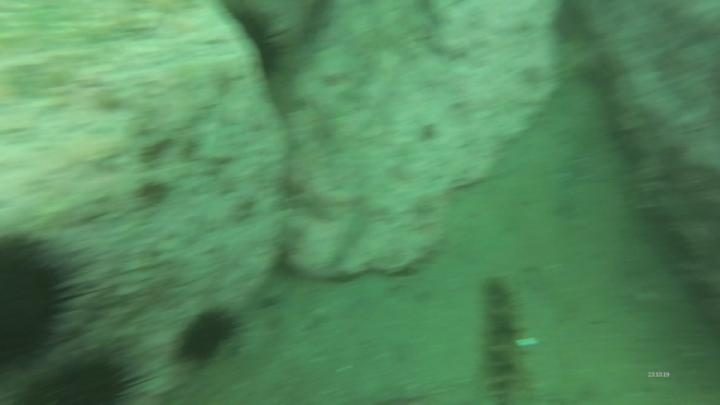echinus: (1, 227, 100, 376), (1, 345, 163, 403), (173, 299, 248, 374)
holothurian: (481, 275, 533, 405)
